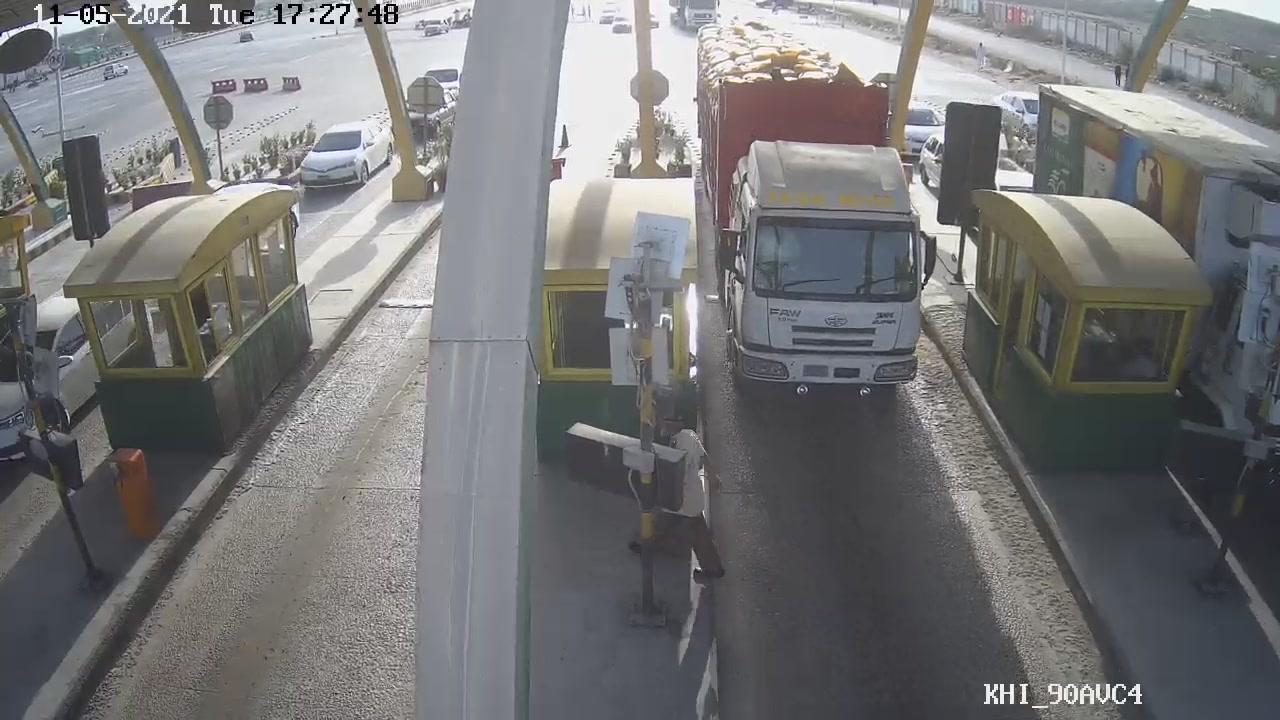F6: (691, 23, 928, 396)
